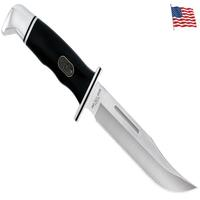knife: (7, 2, 198, 193)
